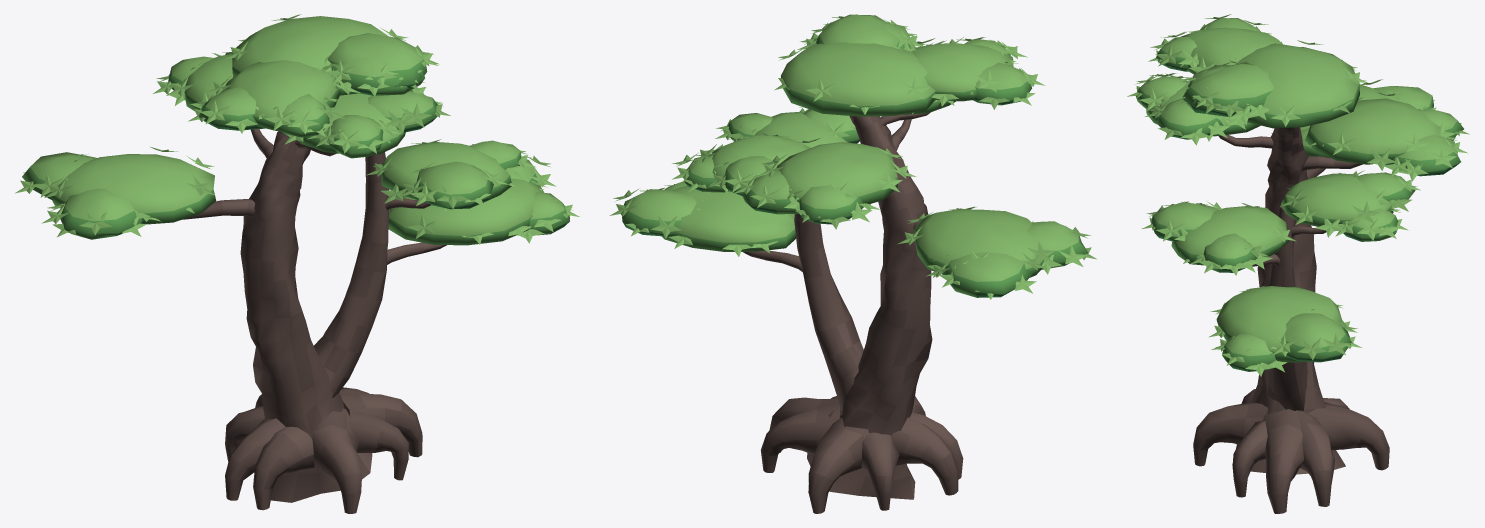
File: tree_maple_green.glb
3 renders of one model, left to right at view 1: azimuth 30°, elevation 25°; view 2: azimuth 150°, elevation 25°; view 3: azimuth 270°, elevation 25°, orthographic. The views are drawn at different scales.
Parts seen in each view (by area): view 1: foliage_body_nl, trunk; view 2: foliage_body_nl, trunk; view 3: foliage_body_nl, trunk.
Boxes of the visible parts, box(x1,y1,x2,y2) form: foliage_body_nl: box(15, 14, 579, 245); trunk: box(183, 129, 446, 513); foliage_body_nl: box(609, 14, 1096, 299); trunk: box(743, 103, 963, 513); foliage_body_nl: box(1127, 14, 1469, 376); trunk: box(1193, 127, 1389, 513).
Bounding box in the file's own units: 82.44 × 71.5 × 52.89.
